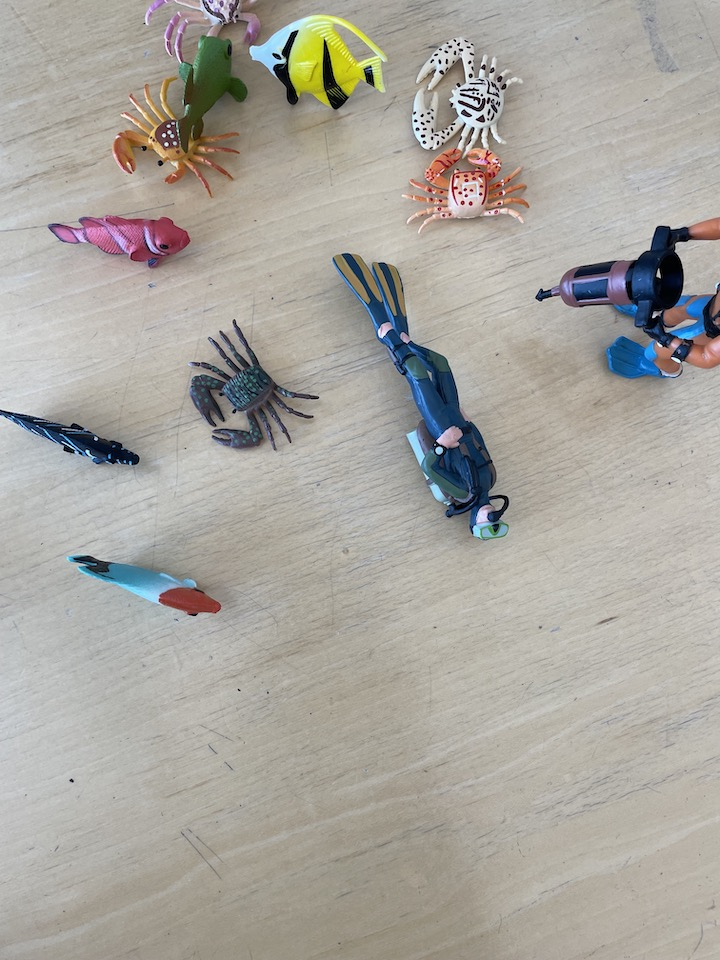crab: (184, 315, 322, 455), (110, 73, 242, 200), (409, 34, 528, 163), (399, 144, 536, 236), (140, 1, 270, 74)
danger: (247, 12, 391, 117)
diver: (328, 246, 514, 545), (533, 211, 720, 384)
fish: (62, 549, 228, 620), (41, 207, 200, 270), (1, 405, 143, 471)
